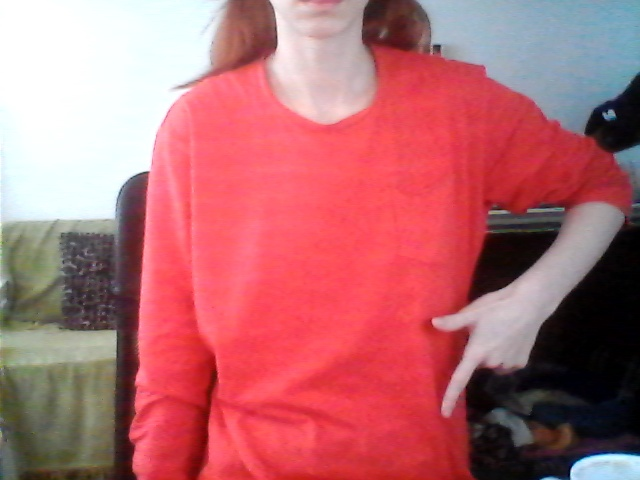policia: (415, 284, 545, 428)
